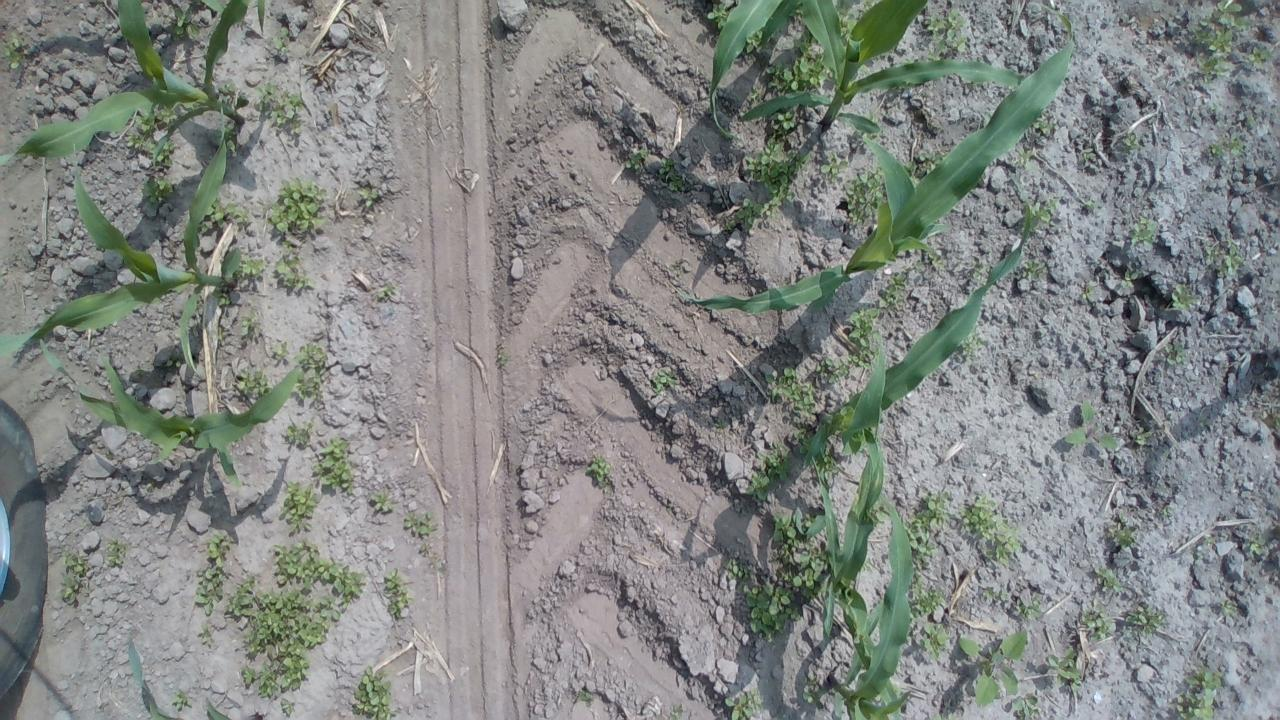Maize: (682, 0, 1078, 304), (809, 174, 1030, 530), (0, 99, 241, 386), (0, 0, 266, 166), (36, 337, 303, 489), (739, 0, 1029, 128), (811, 448, 903, 720), (826, 503, 916, 720), (702, 0, 804, 141), (124, 640, 264, 720)
Weeds: (224, 575, 340, 698), (272, 538, 368, 612), (742, 136, 809, 219), (770, 509, 830, 600), (1190, 0, 1254, 85), (959, 630, 1028, 706), (762, 30, 832, 94), (958, 496, 1021, 567), (738, 578, 802, 644), (904, 490, 953, 568), (265, 175, 330, 233), (193, 530, 234, 615), (1169, 667, 1225, 720), (1064, 398, 1118, 450), (254, 79, 302, 136), (766, 368, 817, 419), (746, 442, 791, 499), (846, 165, 888, 226), (924, 7, 970, 62), (312, 435, 354, 495), (352, 664, 394, 720), (279, 481, 321, 536), (846, 306, 880, 369), (290, 343, 326, 402), (269, 241, 313, 288), (909, 567, 946, 620), (58, 552, 91, 606), (1048, 646, 1084, 692), (724, 198, 770, 234), (1204, 238, 1244, 278), (384, 568, 414, 620), (1080, 599, 1116, 640), (134, 104, 178, 136), (1124, 604, 1166, 635), (725, 686, 763, 720), (206, 198, 252, 226), (920, 622, 951, 662), (237, 366, 273, 400), (170, 6, 202, 42), (3, 30, 30, 72), (142, 176, 176, 207), (1108, 512, 1136, 548), (881, 271, 908, 308), (585, 453, 613, 488), (286, 418, 316, 450), (820, 150, 849, 183), (234, 253, 266, 282), (403, 510, 436, 538), (814, 357, 848, 384), (1130, 216, 1158, 248), (802, 676, 832, 705), (914, 152, 950, 176), (1208, 134, 1242, 159), (1014, 591, 1044, 619), (1170, 283, 1200, 311), (102, 536, 128, 568), (144, 142, 176, 168), (966, 256, 993, 286), (722, 557, 752, 584), (1092, 566, 1120, 594), (370, 488, 400, 514), (1244, 46, 1274, 71), (650, 369, 677, 396), (1032, 198, 1058, 226), (624, 148, 650, 176), (1011, 147, 1040, 172), (661, 158, 682, 192), (1012, 696, 1041, 720), (1019, 258, 1050, 280), (216, 127, 237, 157), (220, 81, 247, 104), (706, 3, 729, 29), (170, 688, 193, 712), (1034, 112, 1058, 135), (959, 335, 983, 358), (839, 12, 860, 38), (791, 427, 810, 455), (271, 26, 289, 54), (902, 162, 921, 188), (1164, 344, 1186, 366), (196, 622, 216, 646), (212, 284, 232, 307), (358, 186, 378, 209), (742, 30, 762, 53), (983, 586, 1010, 602), (126, 128, 145, 150), (241, 312, 257, 338), (1248, 532, 1265, 556), (1217, 598, 1237, 618), (1121, 130, 1139, 152), (927, 248, 946, 268), (820, 456, 840, 475), (165, 350, 186, 368), (860, 0, 881, 18), (271, 340, 289, 360), (1131, 430, 1153, 446), (279, 696, 296, 716), (377, 282, 395, 300), (211, 326, 227, 346), (1080, 280, 1096, 300), (712, 416, 728, 434), (1122, 271, 1138, 288), (1079, 147, 1097, 161), (840, 576, 856, 590), (576, 690, 594, 701), (670, 704, 682, 720), (937, 713, 960, 720), (198, 223, 210, 236), (860, 560, 873, 572), (790, 6, 804, 16), (1272, 415, 1280, 432), (900, 57, 914, 65), (1246, 114, 1256, 125), (1162, 507, 1174, 515), (1085, 199, 1095, 208)
